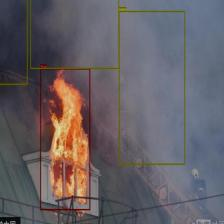fire: (40, 68, 90, 210)
smoke: (119, 10, 185, 164), (30, 0, 119, 69), (0, 0, 27, 84)
